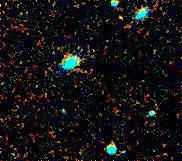star: (105, 2, 135, 32)
